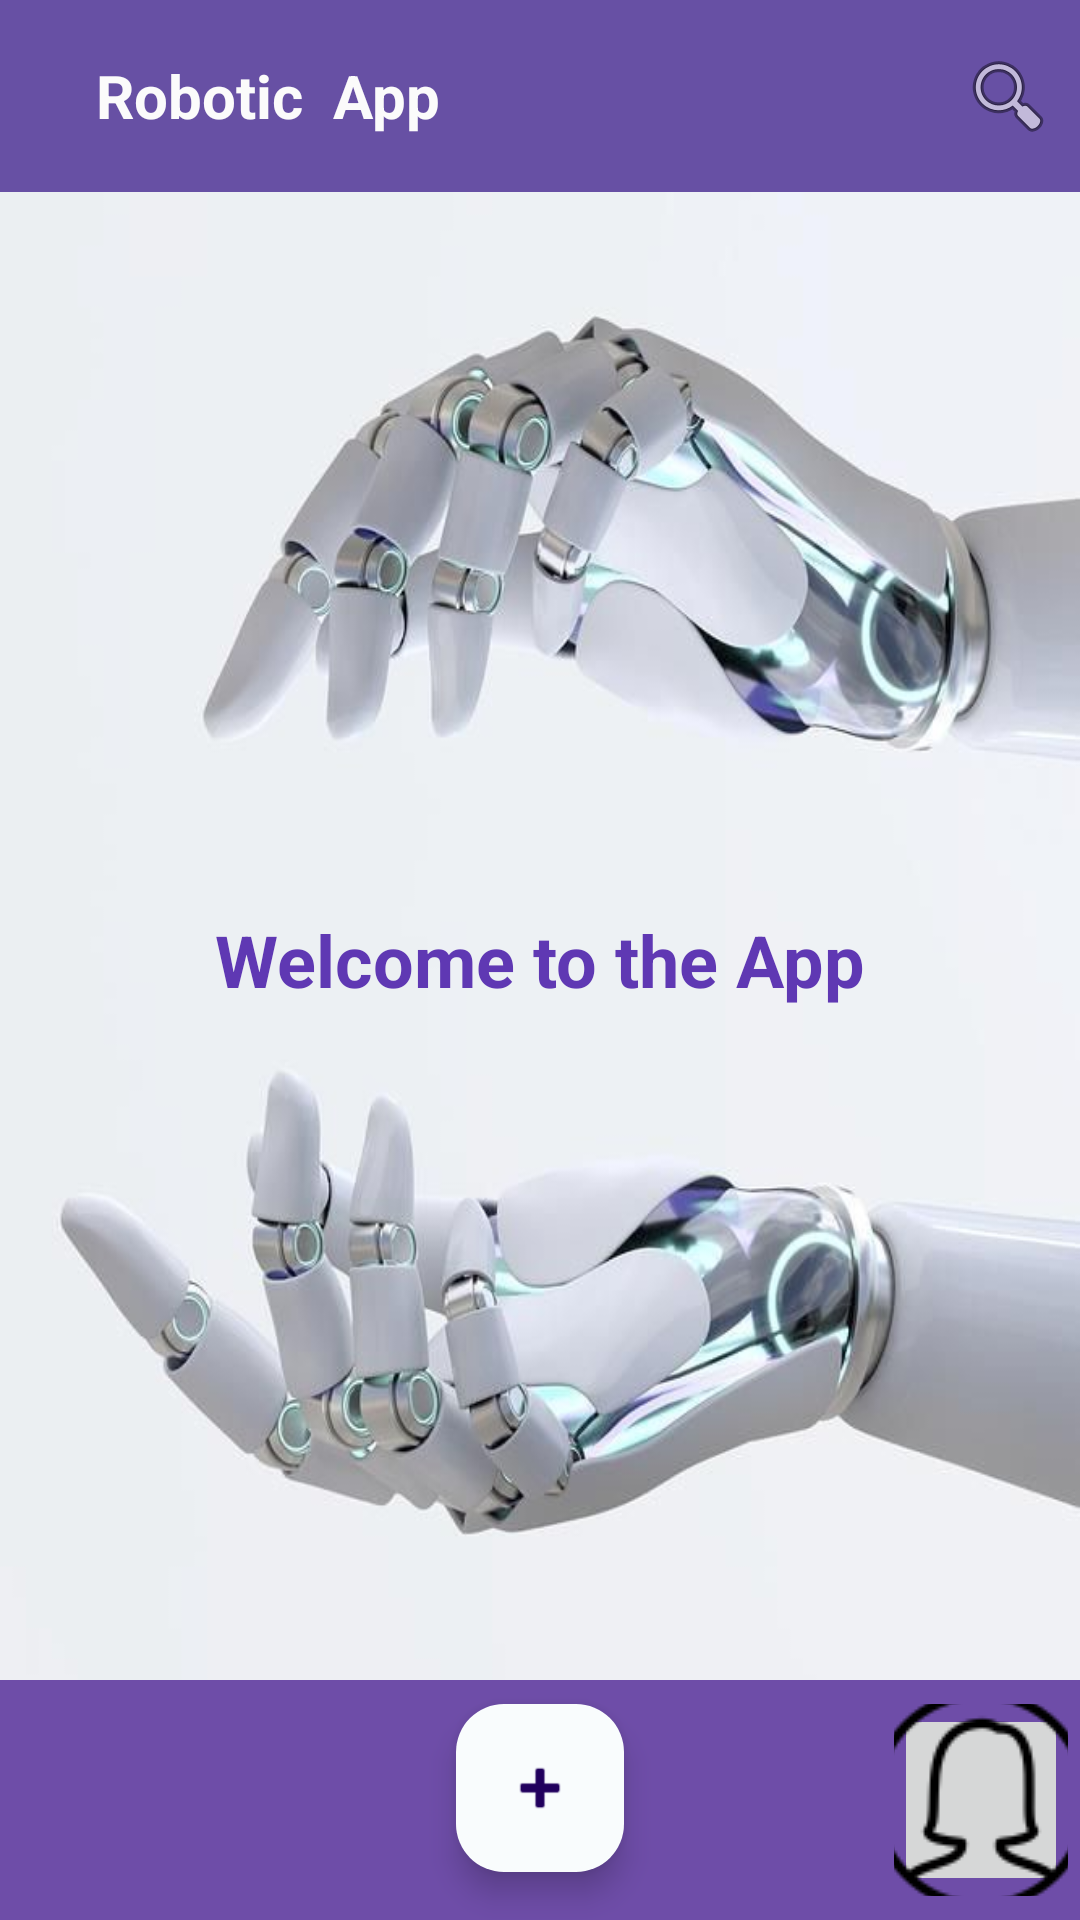

Locate icon controls on the screen. Image size 1080w x 1920h, boxes as (x1, y1, x2, y2).
add: (456, 1704, 624, 1872)
Profile Button: (894, 1704, 1068, 1896)
search: (973, 61, 1043, 132)
